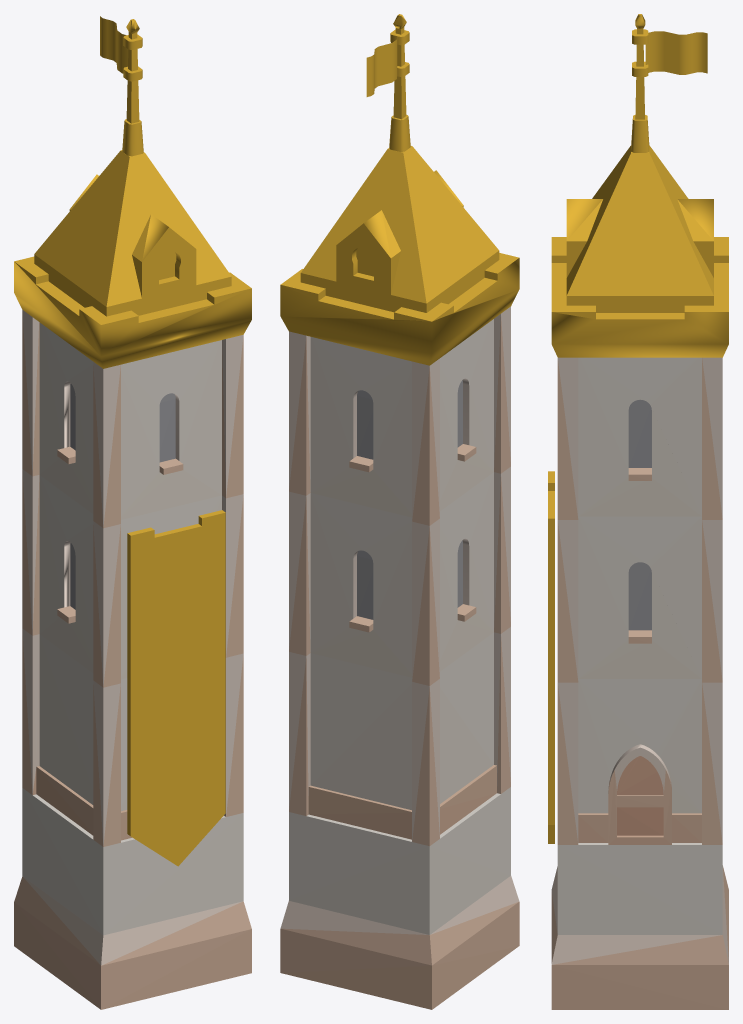
The model's file is dtower_l3.glb.
3 renders of one model, left to right at view 1: azimuth 30°, elevation 25°; view 2: azimuth 150°, elevation 25°; view 3: azimuth 270°, elevation 25°, orthographic.
Visible parts, largest first — view 1: dtower_l3; view 2: dtower_l3; view 3: dtower_l3.
Boxes of the visible parts, x1,y1,x2,y2 form: dtower_l3: (14, 16, 251, 1009); dtower_l3: (280, 14, 519, 1009); dtower_l3: (548, 14, 728, 1009).
Size of the model in its own units: 1.6 by 9.53 by 1.63.
